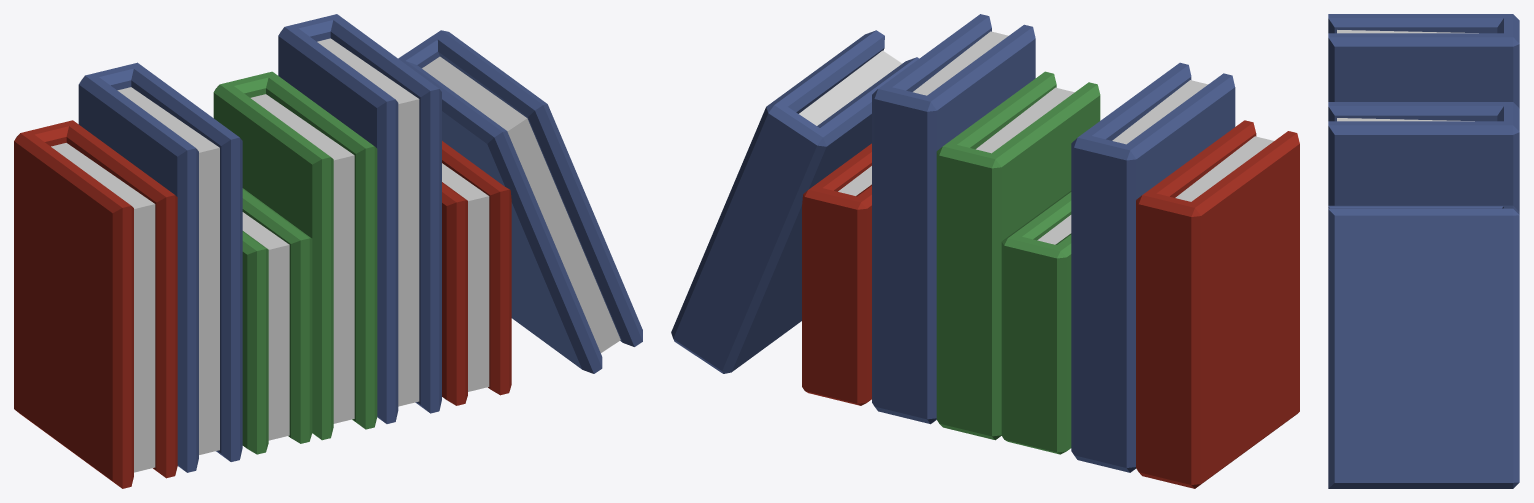
File: Books A.glb
The picture shows the model from 3 angles, left to right: view 1: azimuth 30°, elevation 25°; view 2: azimuth 150°, elevation 25°; view 3: azimuth 270°, elevation 25°; orthographic projection. The views are drawn at different scales.
Visible parts, largest first — view 1: Books A; view 2: Books A; view 3: Books A.
Boxes of the visible parts, x1,y1,x2,y2 form: Books A: (14, 14, 642, 488); Books A: (671, 14, 1299, 488); Books A: (1328, 14, 1519, 488).
Bounding box in the file's own units: 255 × 148 × 88.15.
